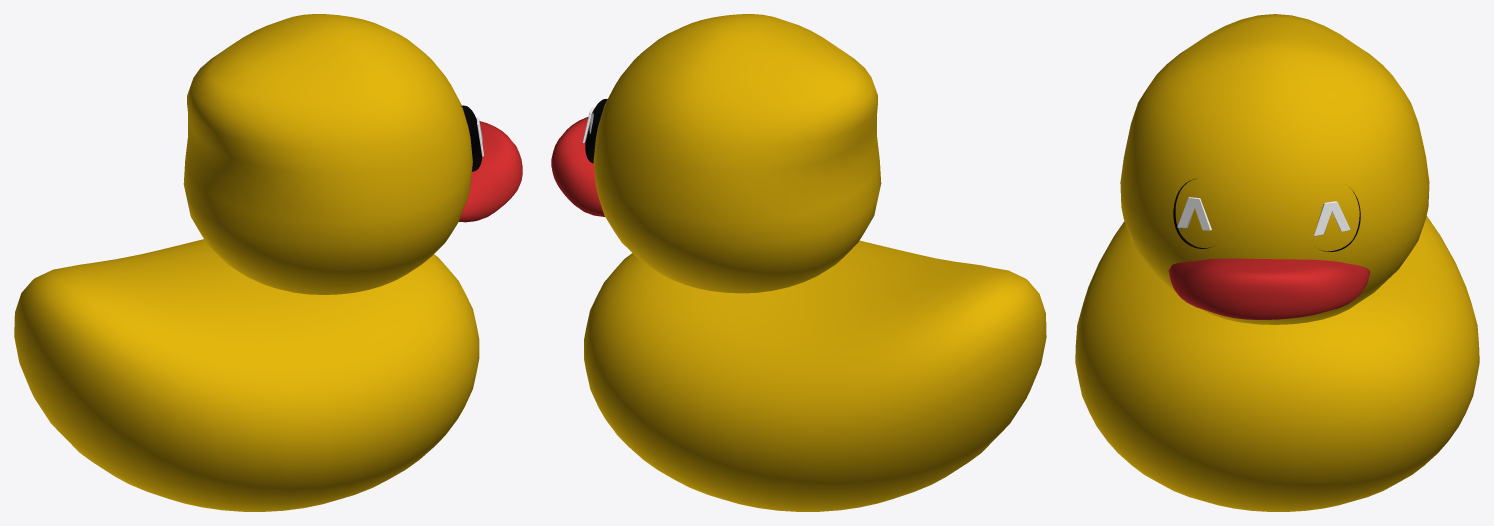
Rendered from Pato.fbx.
3 renders of one model, left to right at view 1: azimuth 30°, elevation 25°; view 2: azimuth 150°, elevation 25°; view 3: azimuth 270°, elevation 25°, orthographic. The views are drawn at different scales.
Visible parts, largest first — view 1: Sphere008; view 2: Sphere008; view 3: Sphere008.
Boxes of the visible parts, left/top/right/bottom form: Sphere008: left=14, top=14, right=522, bottom=511; Sphere008: left=551, top=14, right=1046, bottom=511; Sphere008: left=1075, top=14, right=1479, bottom=511.
Size of the model in its own units: 24.88 by 22.56 by 17.66.
